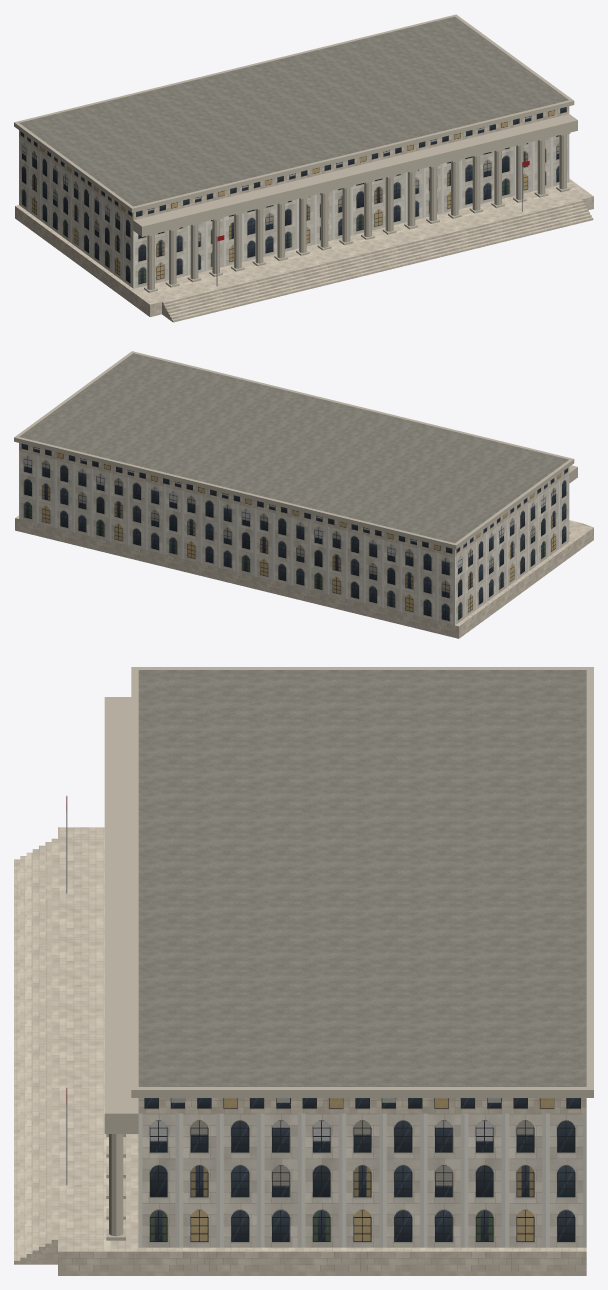
Rendered from 084_post_office.glb.
The picture shows the model from 3 angles, top to bottom: view 1: azimuth 30°, elevation 25°; view 2: azimuth 150°, elevation 25°; view 3: azimuth 270°, elevation 25°; orthographic projection. The views are drawn at different scales.
Visible parts, largest first — view 1: 084_post_office; view 2: 084_post_office; view 3: 084_post_office.
Boxes of the visible parts, x1,y1,x2,y2 form: 084_post_office: [14, 14, 593, 322]; 084_post_office: [14, 351, 593, 638]; 084_post_office: [14, 667, 593, 1275].
Size of the model in its own units: 112 by 22.8 by 64.7.
7 materials, 4 textured.
